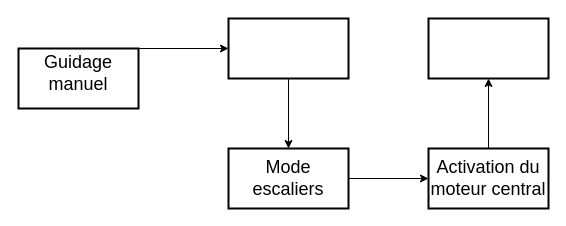
Image size: 566x226. Some labels were removed from this diagram. Here are the shapes that lost their labels. From the top down, the box of each, then its label:
(227, 17, 349, 79): Escaliers
(427, 17, 549, 79): Escaliers escaladés
